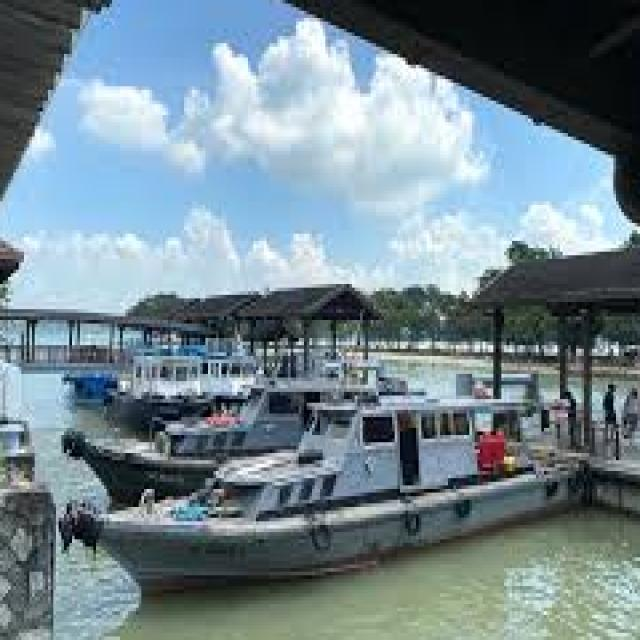fishing boat: (53, 363, 586, 583)
